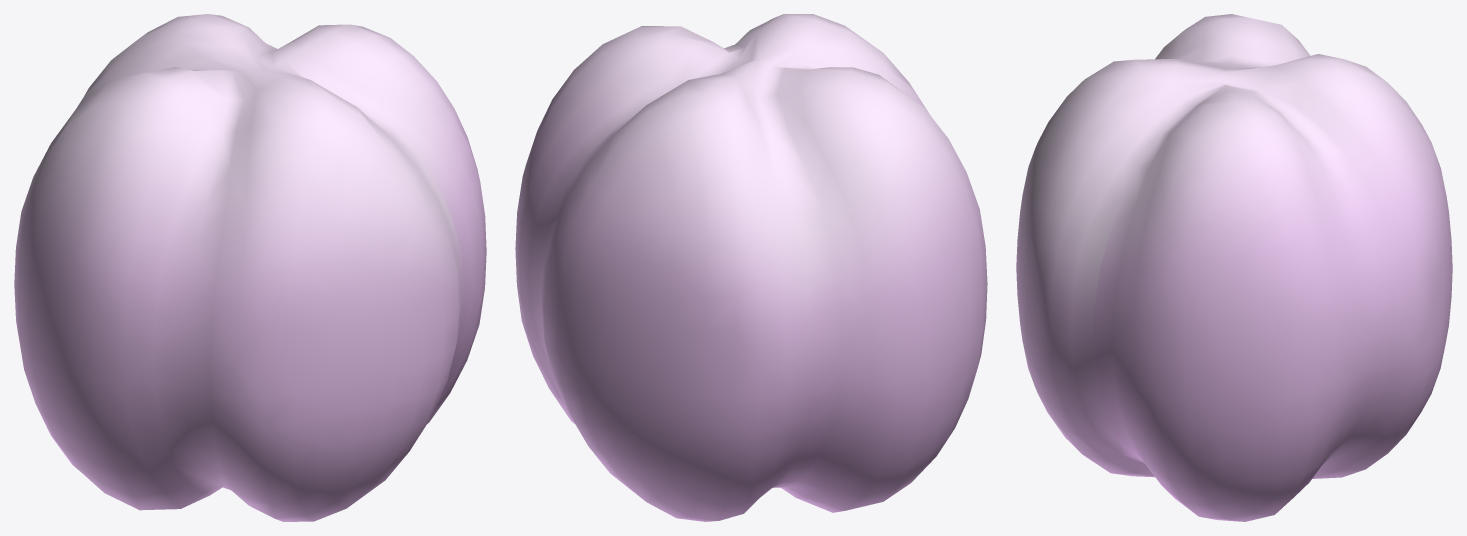
Rendered from stamen.fbx.
The picture shows the model from 3 angles, left to right: view 1: azimuth 30°, elevation 25°; view 2: azimuth 150°, elevation 25°; view 3: azimuth 270°, elevation 25°; orthographic projection. The views are drawn at different scales.
Parts seen in each view (by area): view 1: stamen; view 2: stamen; view 3: stamen.
Boxes of the visible parts, bbox=[...] form: stamen: bbox=[14, 14, 486, 521]; stamen: bbox=[515, 14, 987, 521]; stamen: bbox=[1016, 14, 1452, 521].
Bounding box in the file's own units: 109 × 107 × 102.
